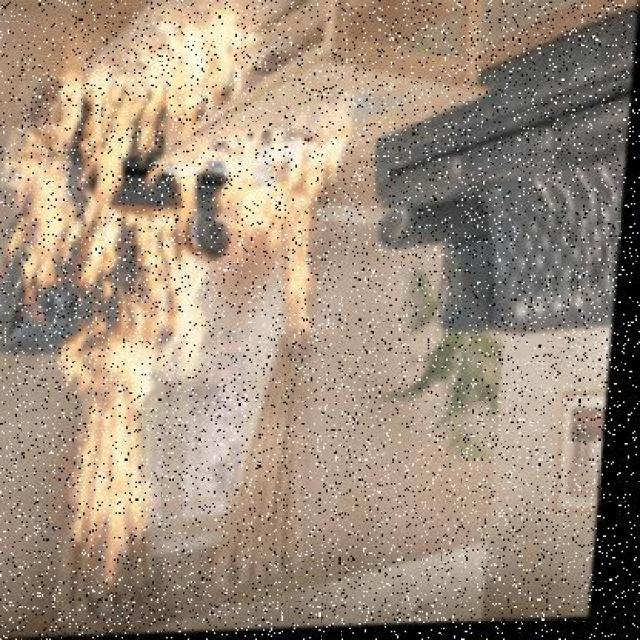fire: (1, 71, 210, 576)
